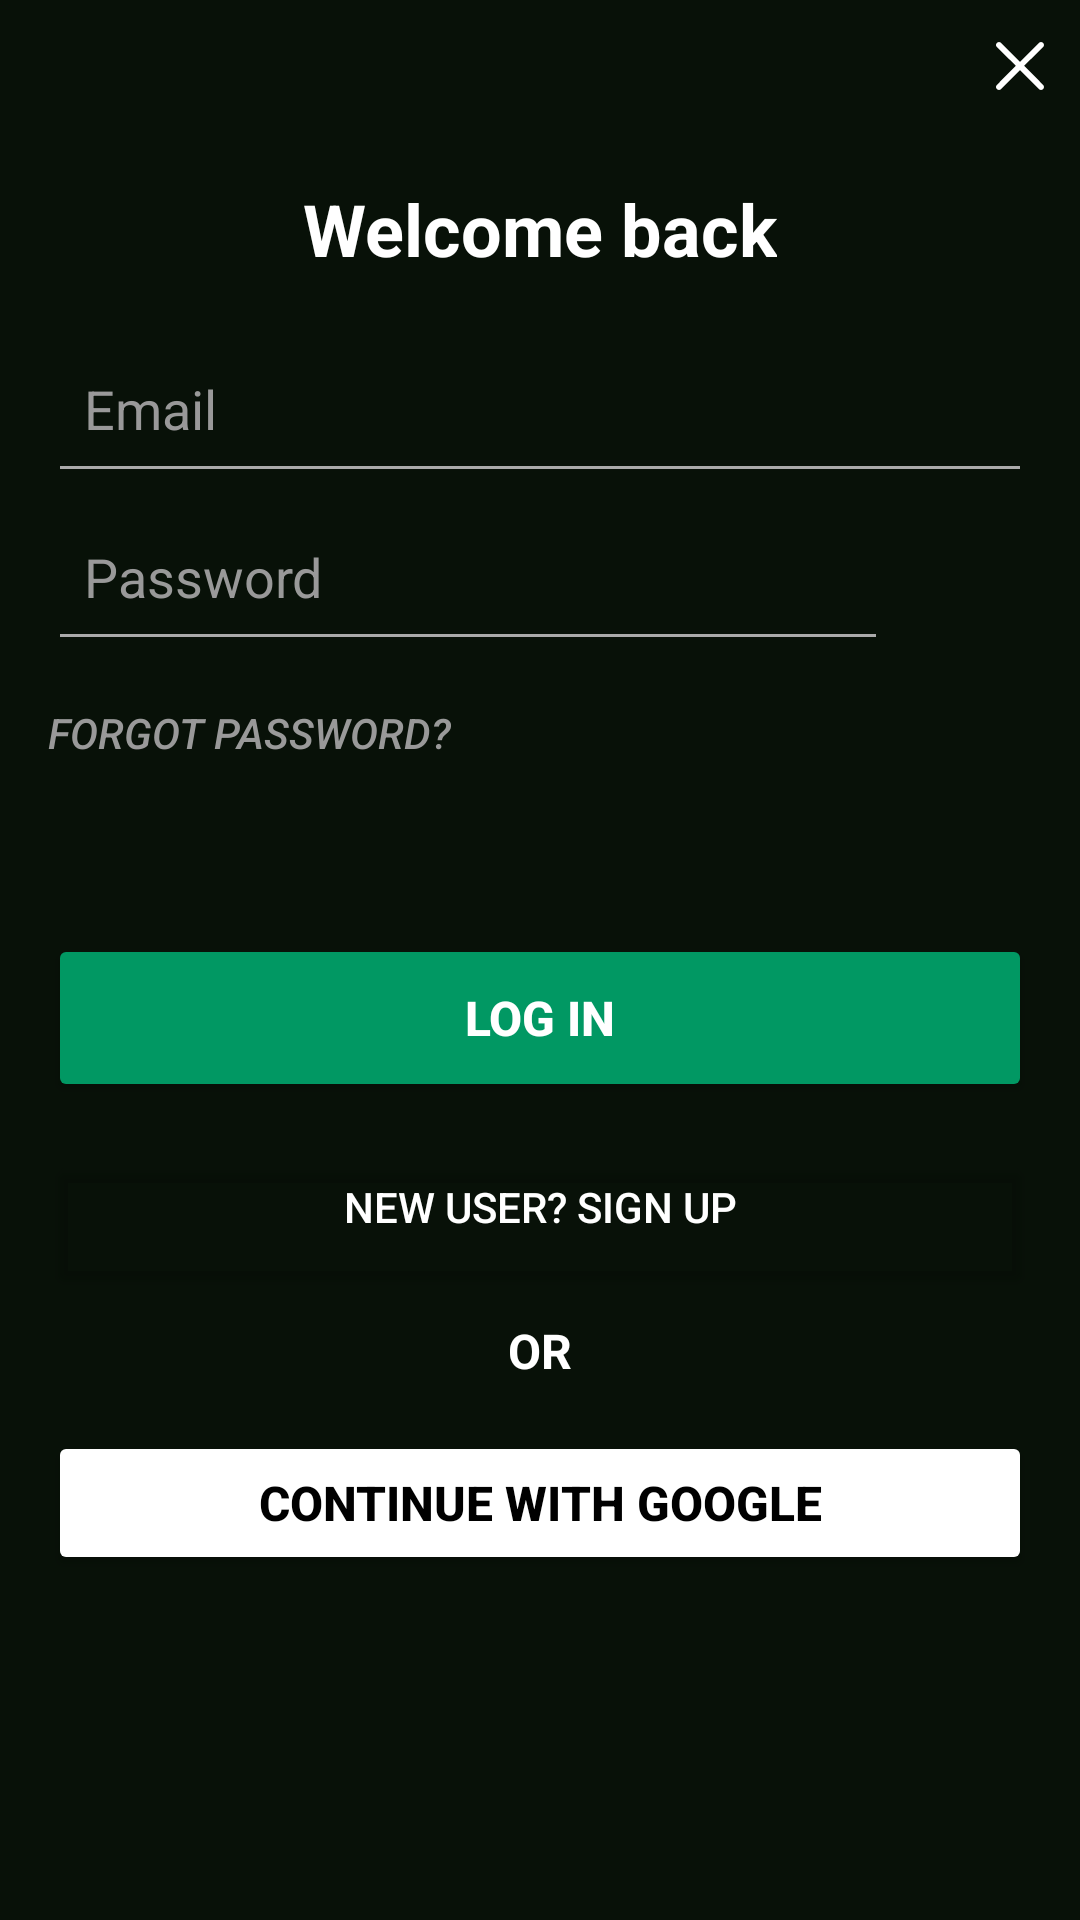

Icon click points for this 1080w x 1920h phone screenshot, format (x,y):
Cross Icon: (1020,66)
